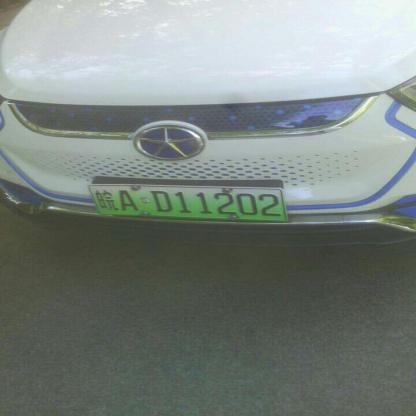lp: (89, 186, 286, 221)
